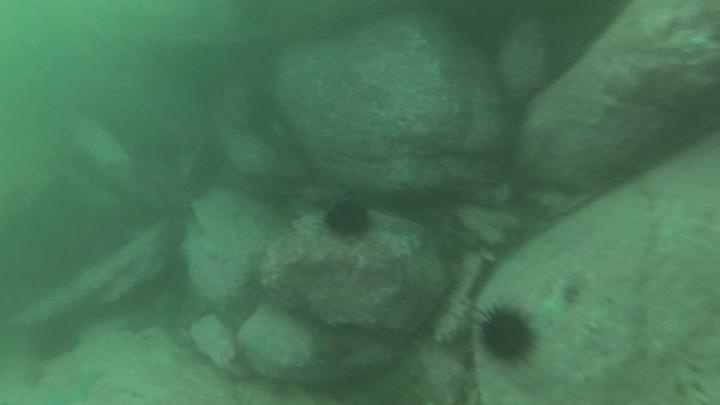echinus: (473, 300, 541, 369), (28, 317, 82, 362), (321, 196, 374, 240)
holothurian: (431, 280, 474, 347)
starfish: (37, 364, 105, 405), (307, 324, 350, 366), (379, 212, 424, 240)
